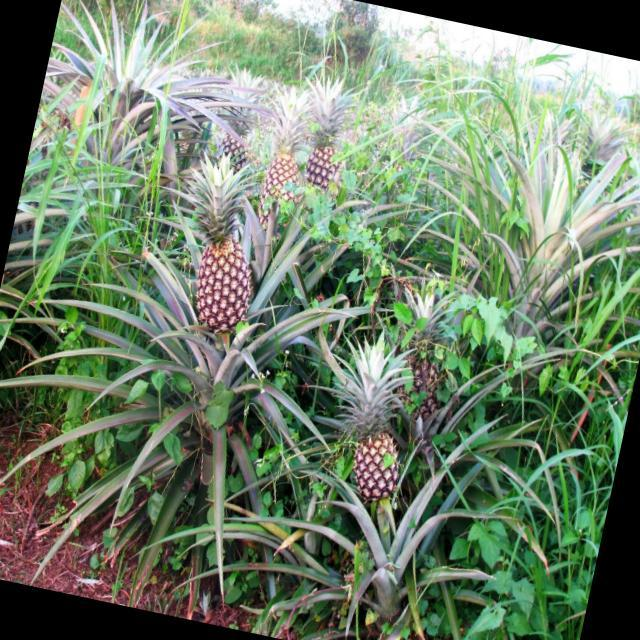PINEAPLE: (162, 149, 280, 342), (321, 344, 430, 511), (280, 70, 353, 216), (250, 119, 318, 240), (406, 330, 459, 398), (215, 112, 258, 170)
